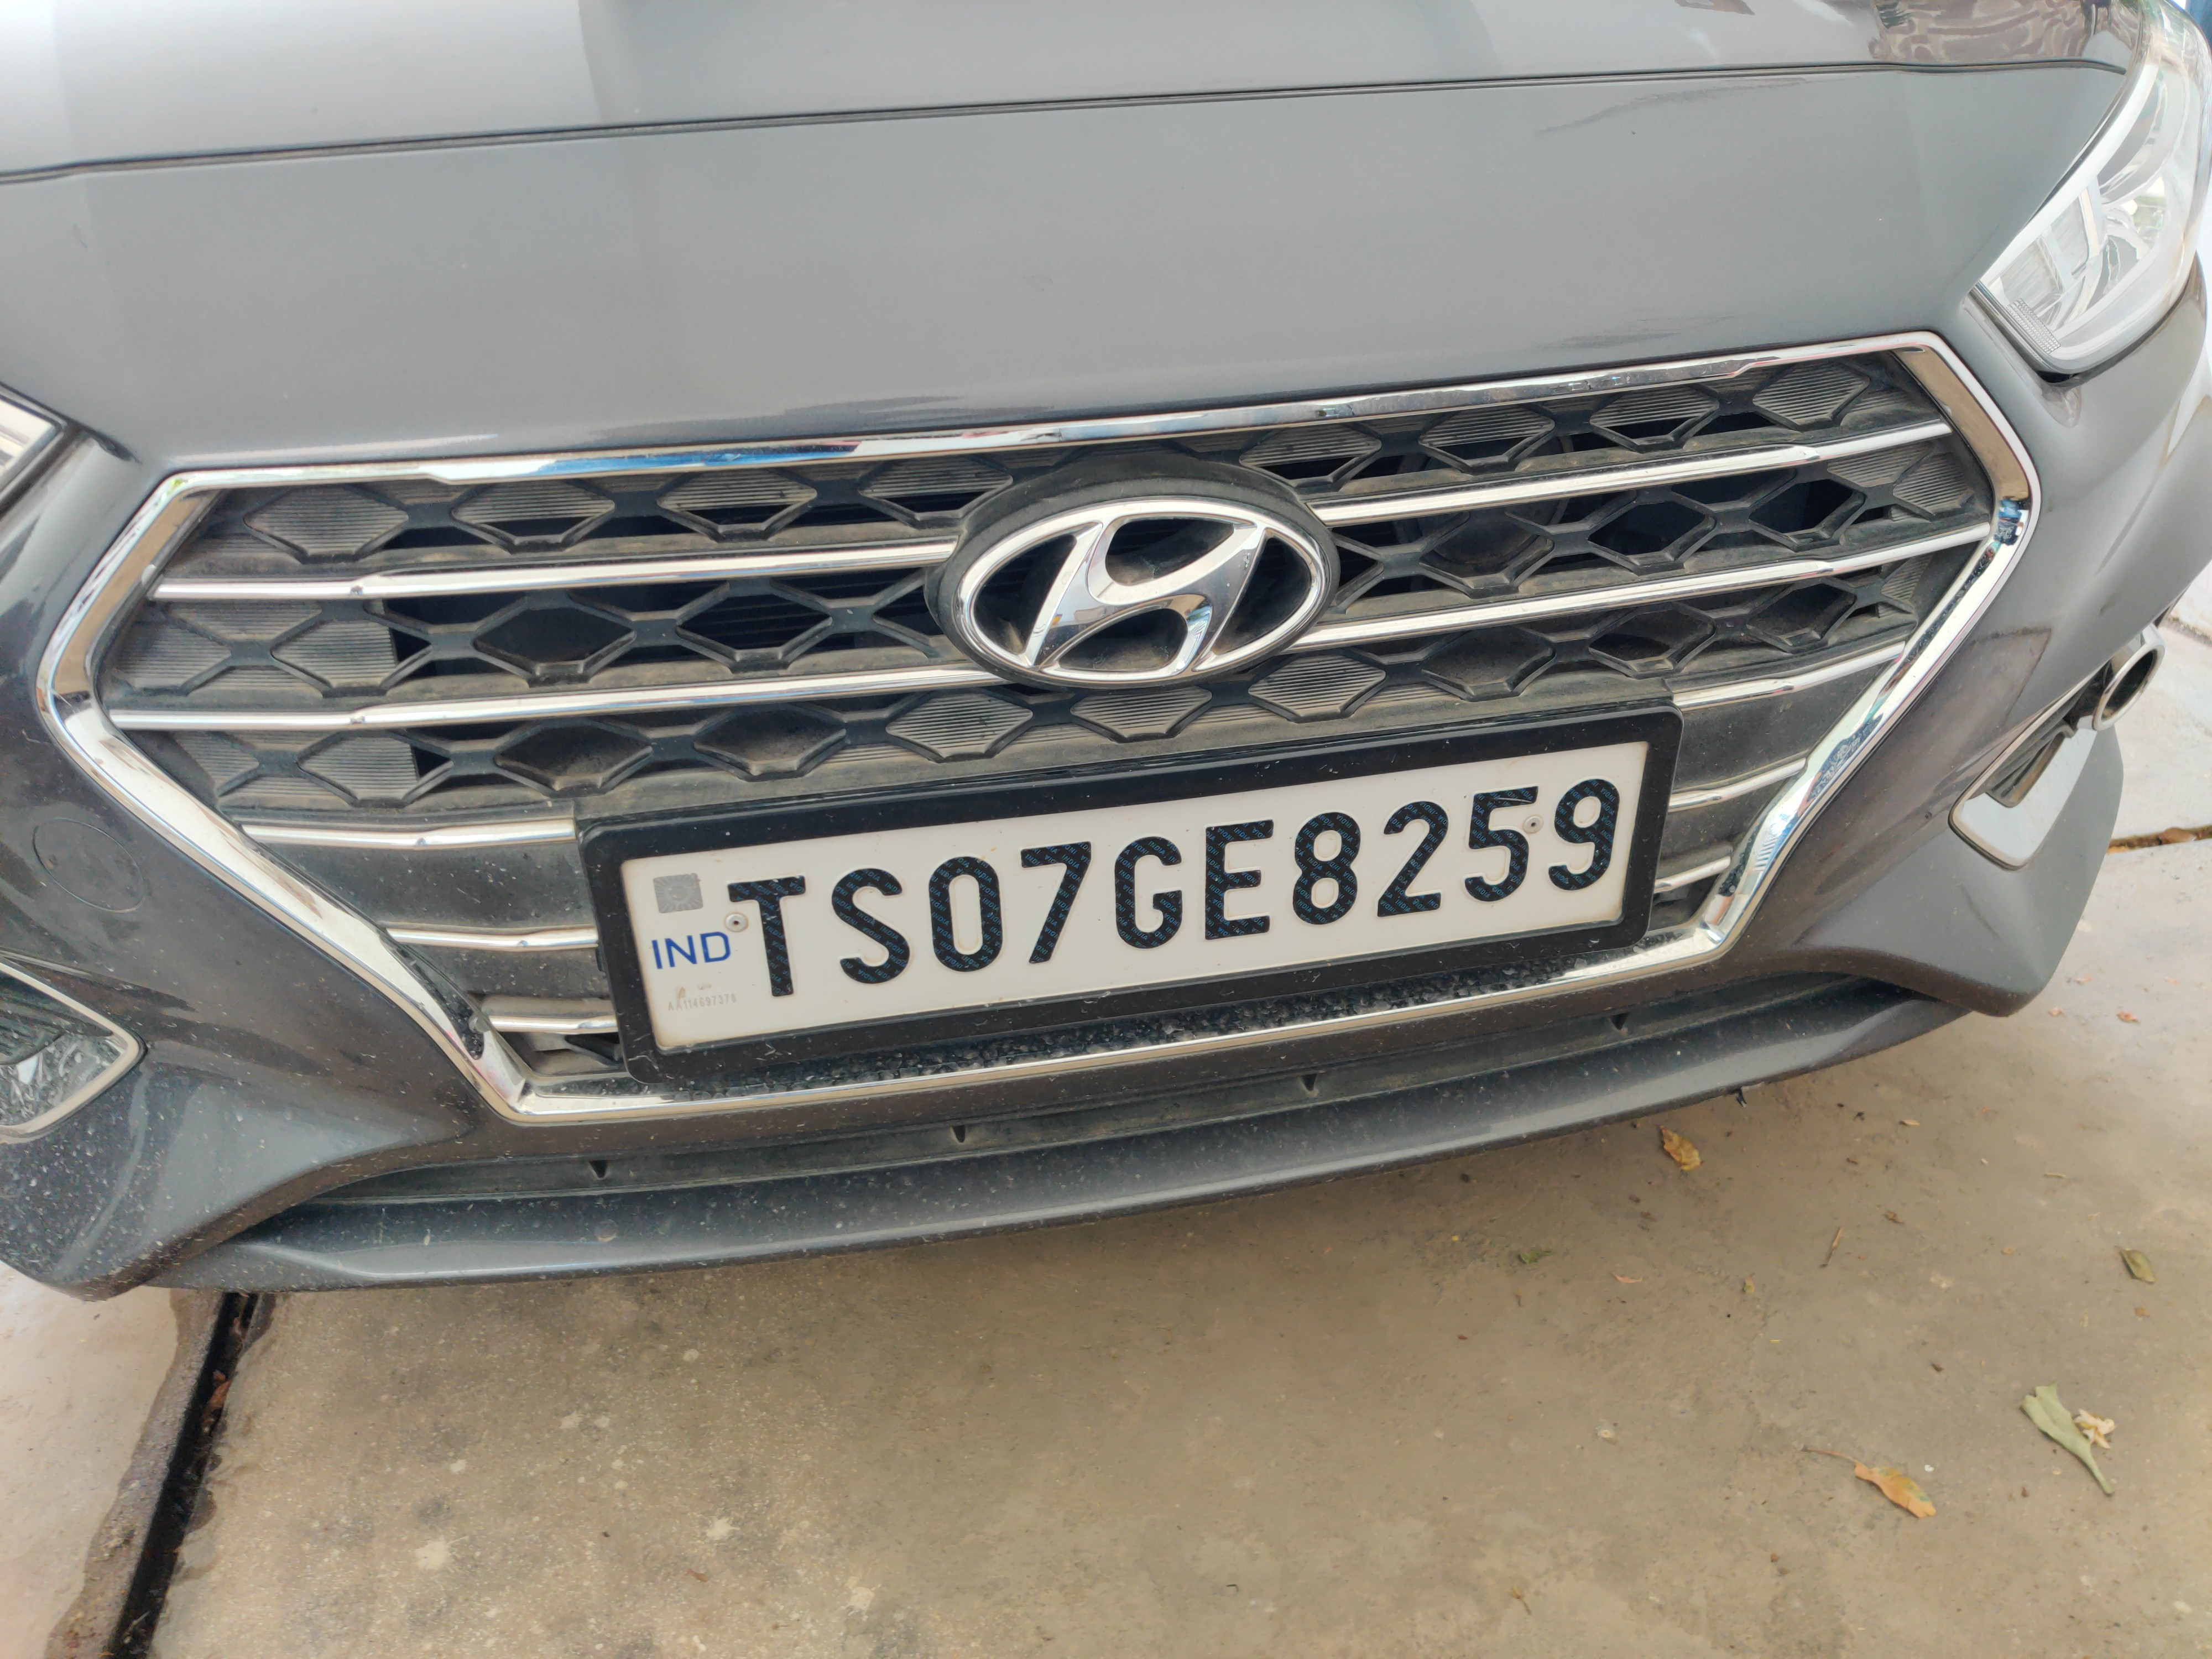plate: (571, 670, 1673, 1089)
